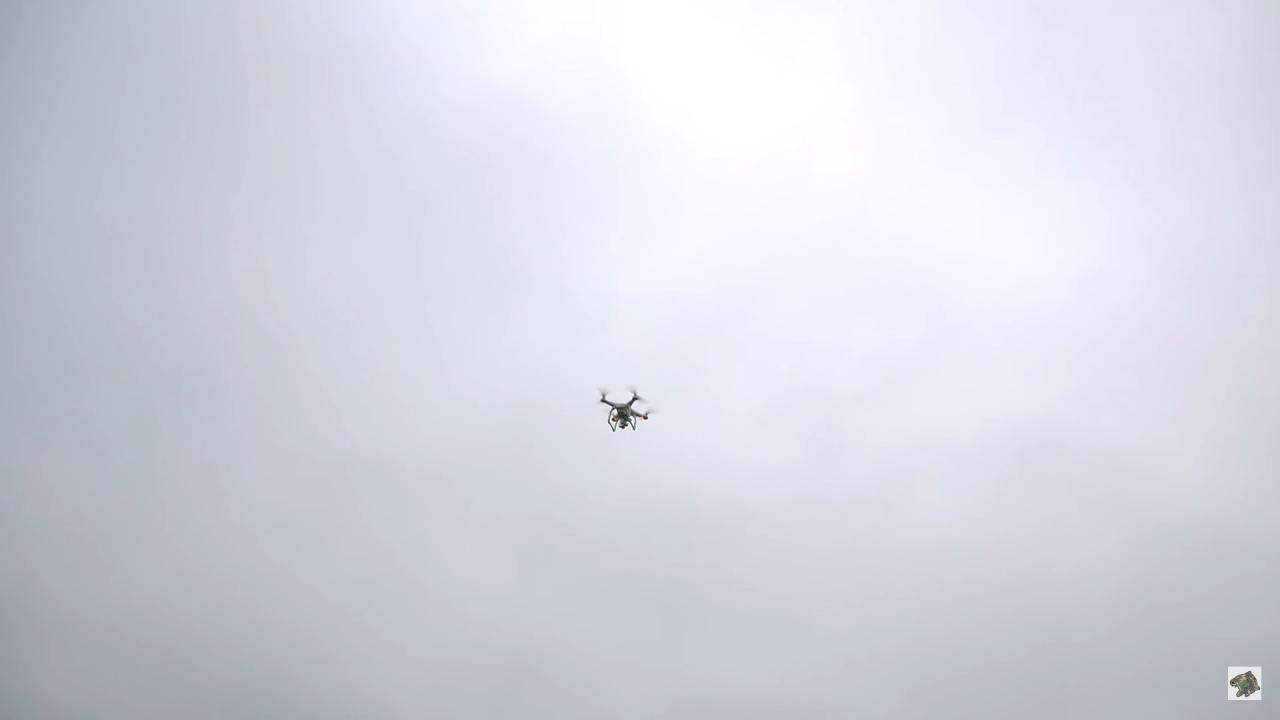Drone: (587, 376, 665, 442)
